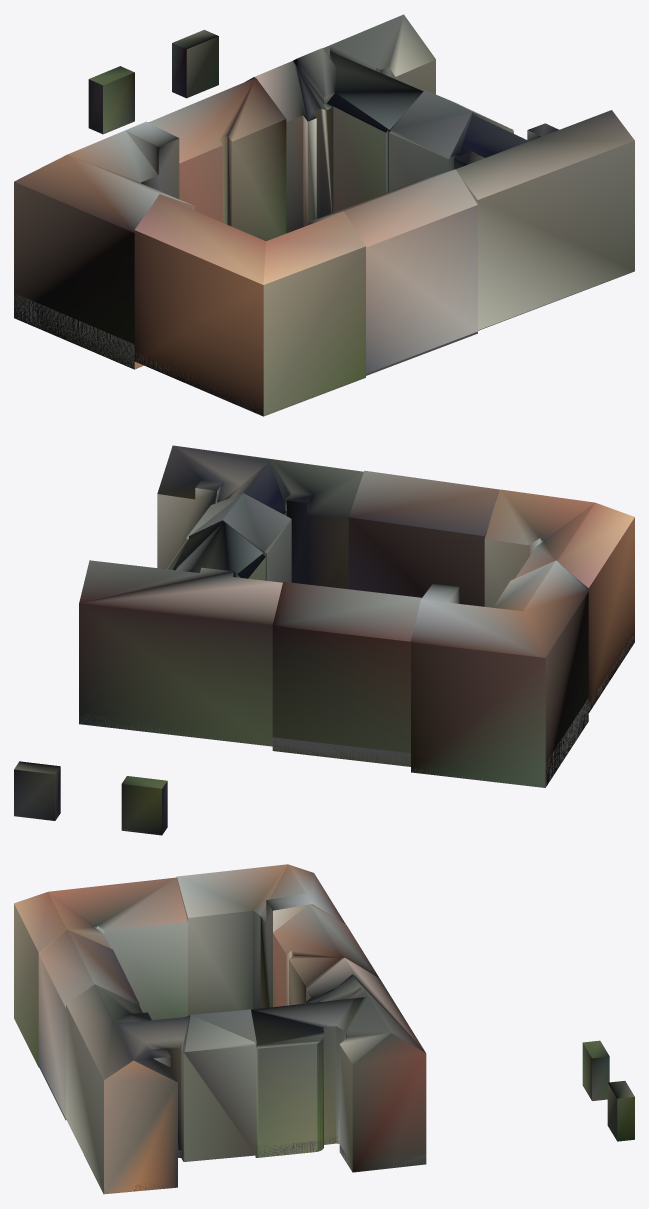
The picture shows the model from 3 angles, top to bottom: view 1: azimuth 30°, elevation 25°; view 2: azimuth 150°, elevation 25°; view 3: azimuth 270°, elevation 25°; orthographic projection. The views are drawn at different scales.
Parts seen in each view (by area): view 1: c_m15_m06; view 2: c_m15_m06; view 3: c_m15_m06.
Part boxes in pixels (<box>): c_m15_m06: <box>14,14,634,416</box>; c_m15_m06: <box>14,445,634,835</box>; c_m15_m06: <box>14,864,634,1194</box>.
Size of the model in its own units: 96.13 by 31.01 by 118.
